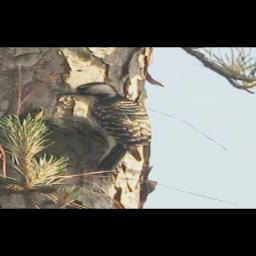Woodpecker: (55, 81, 153, 174)
